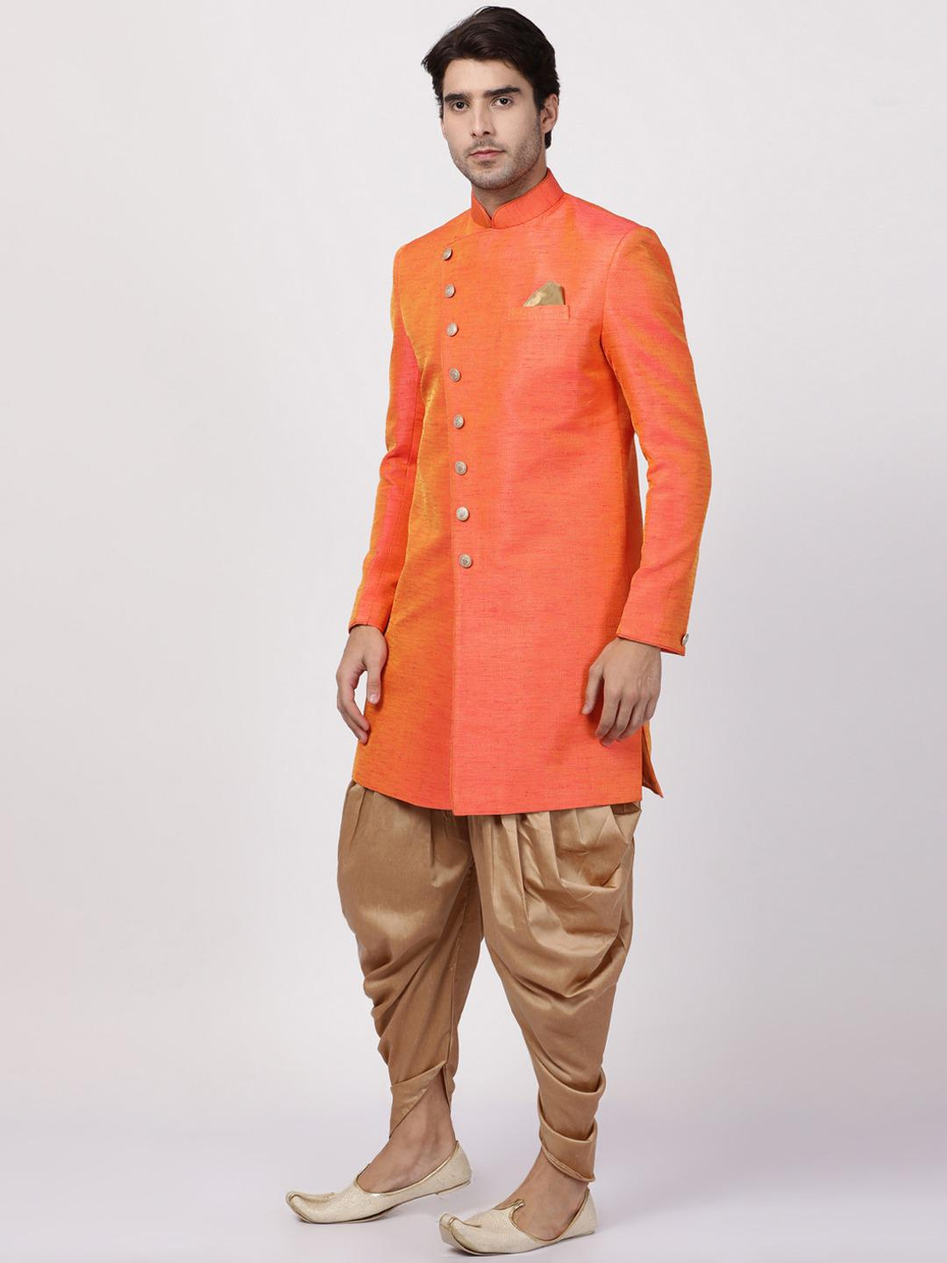Plain sherwani: (336, 174, 715, 828)
